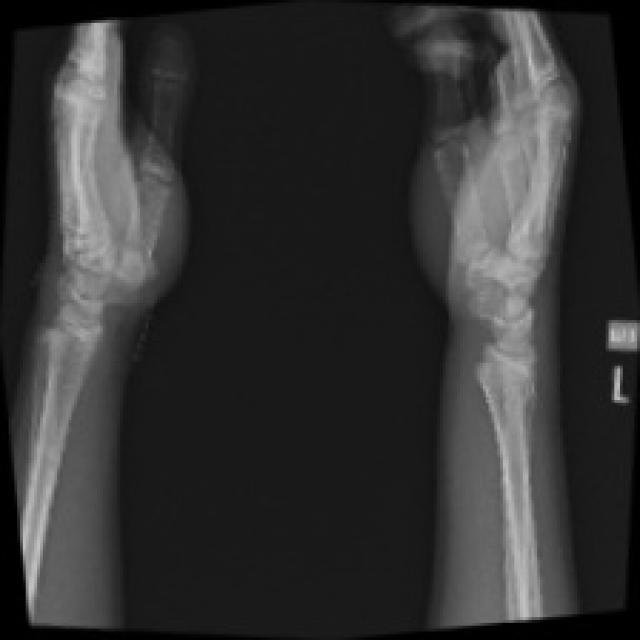fracture: (450, 282, 568, 426)
